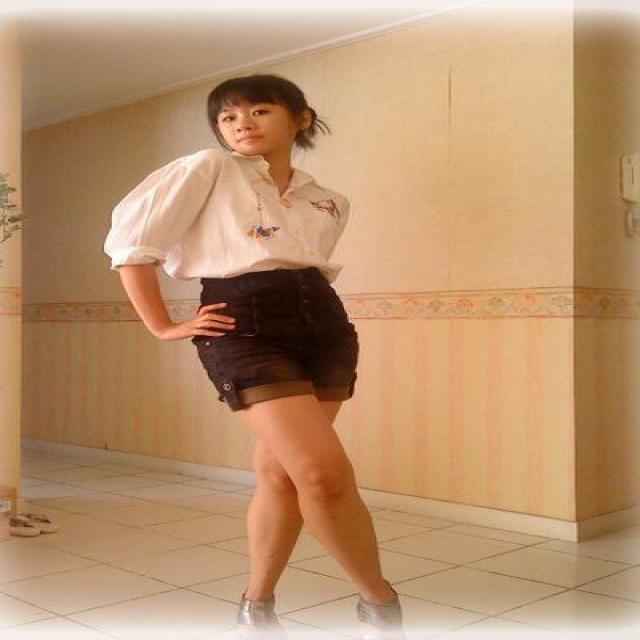shirt: (104, 150, 349, 276)
shoe: (250, 591, 400, 625)
skirt: (190, 266, 357, 411)
